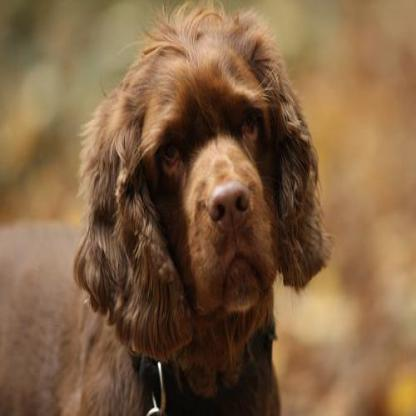Sussex_spaniel: (0, 1, 326, 414)
